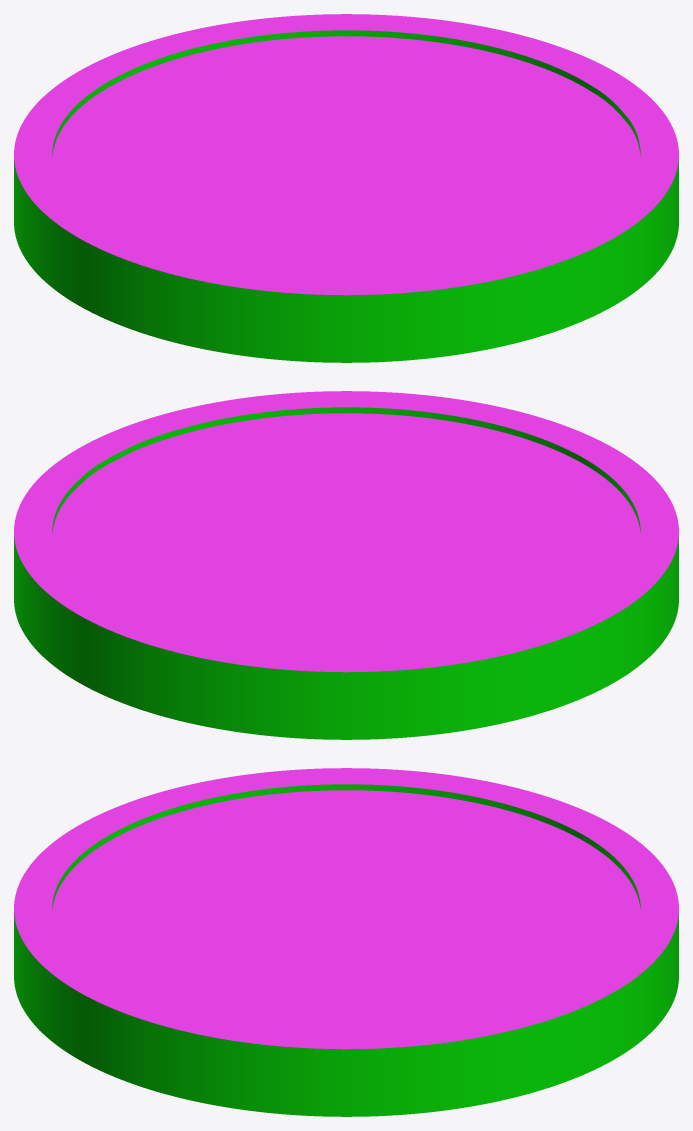
File: hockey.dae
3 views of the same model, one above another, from view 1: azimuth 30°, elevation 25°; view 2: azimuth 150°, elevation 25°; view 3: azimuth 270°, elevation 25° (orthographic).
Parts seen in each view (by area): view 1: Layer0_001; view 2: Layer0_001; view 3: Layer0_001.
Boxes of the visible parts, x1,y1,x2,y2 form: Layer0_001: [14, 14, 678, 362]; Layer0_001: [14, 391, 678, 739]; Layer0_001: [14, 768, 678, 1116].
Size of the model in its own units: 1612 by 181 by 1612.
